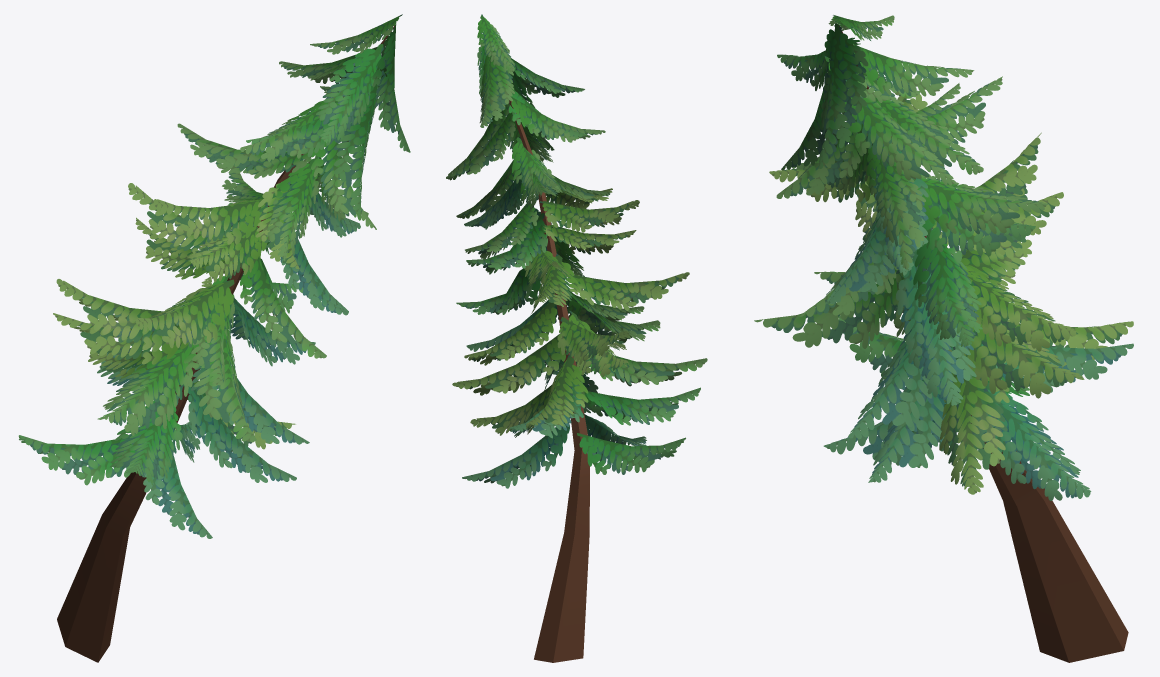
File: pineTree2.fbx
The picture shows the model from 3 angles, left to right: view 1: azimuth 30°, elevation 25°; view 2: azimuth 150°, elevation 25°; view 3: azimuth 270°, elevation 25°; orthographic projection. The views are drawn at different scales.
Parts seen in each view (by area): view 1: pineTree2; view 2: pineTree2; view 3: pineTree2.
Boxes of the visible parts, bbox=[...] form: pineTree2: bbox=[18, 14, 410, 662]; pineTree2: bbox=[446, 14, 707, 662]; pineTree2: bbox=[754, 15, 1133, 662].
Size of the model in its own units: 2.03 by 3.95 by 1.9.
